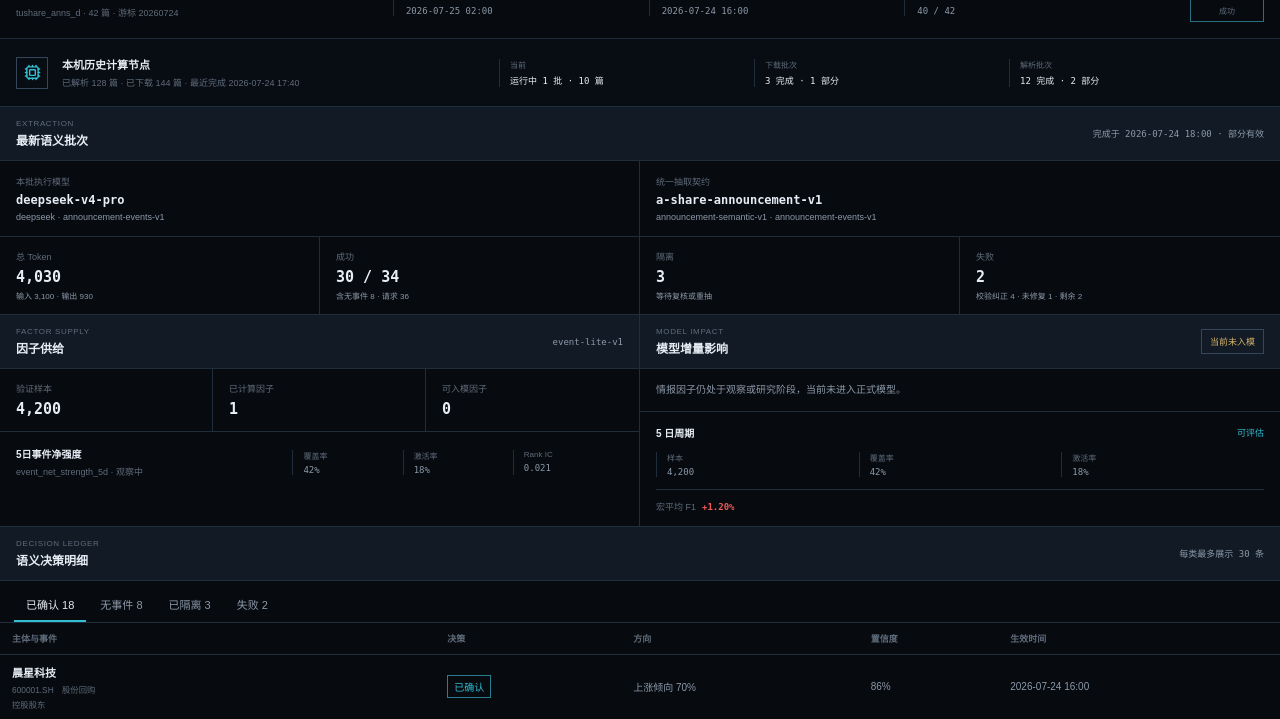
Test: IntelligencePanel › filters canonical, no-event, quarantined, and failed decisions
(page scrolled)
Expected: the text "晨星科技" is shown, [12,667,56,679]
Step 1. Click the button "无事件 8" → [121, 605], box [88,588,154,622]
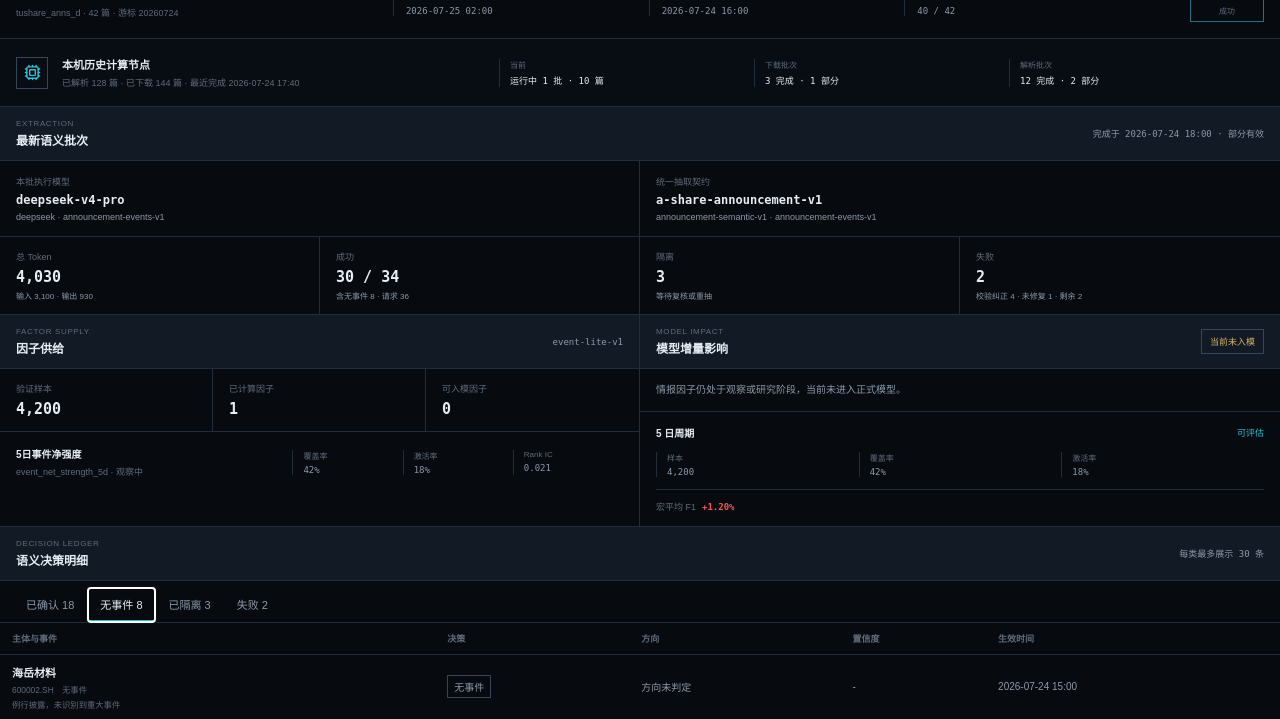
Now the text "海岳材料" is shown, box [12,667,56,679]
Now the text "例行披露，未识别到重大事件" is shown, box [12,700,120,710]
Step 2. Click the button "已隔离 3" → [190, 605], box [156,588,223,622]
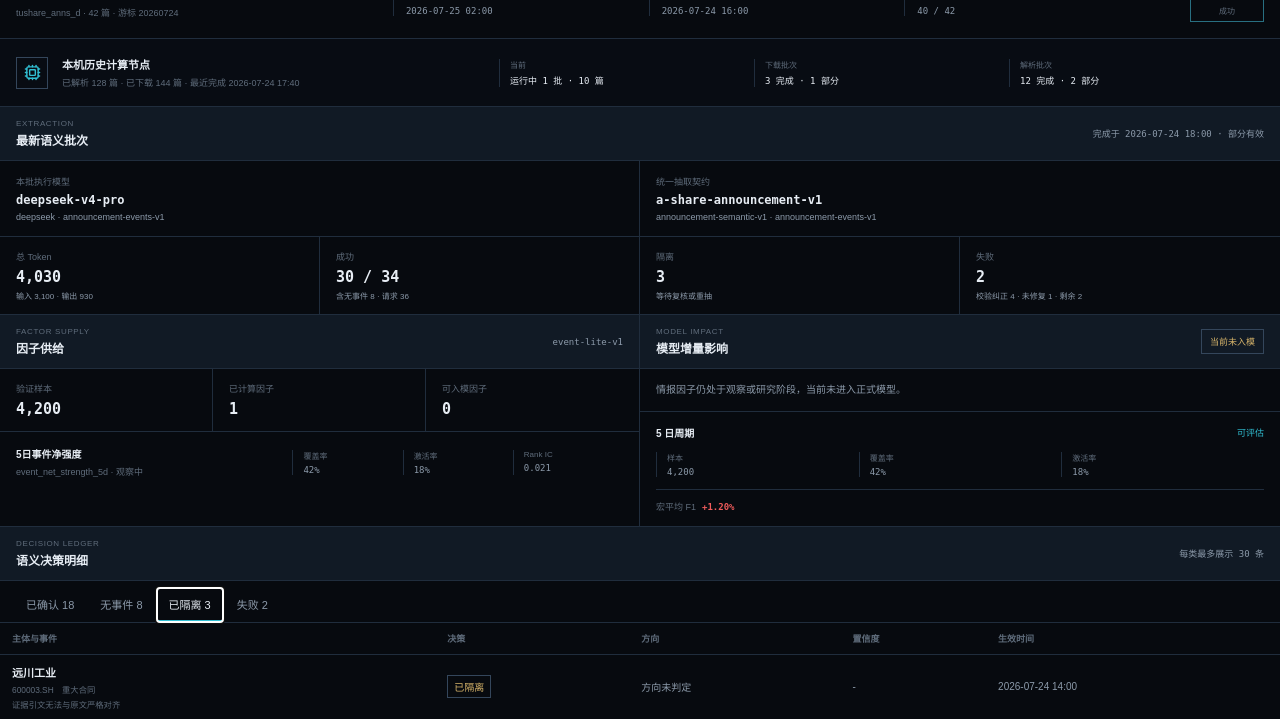
Now the text "远川工业" is shown, box [12,667,56,679]
Now the text "证据引文无法与原文严格对齐" is shown, box [12,700,120,710]
Step 3. Click the button "失败 2" → [252, 605], box [225,588,280,622]
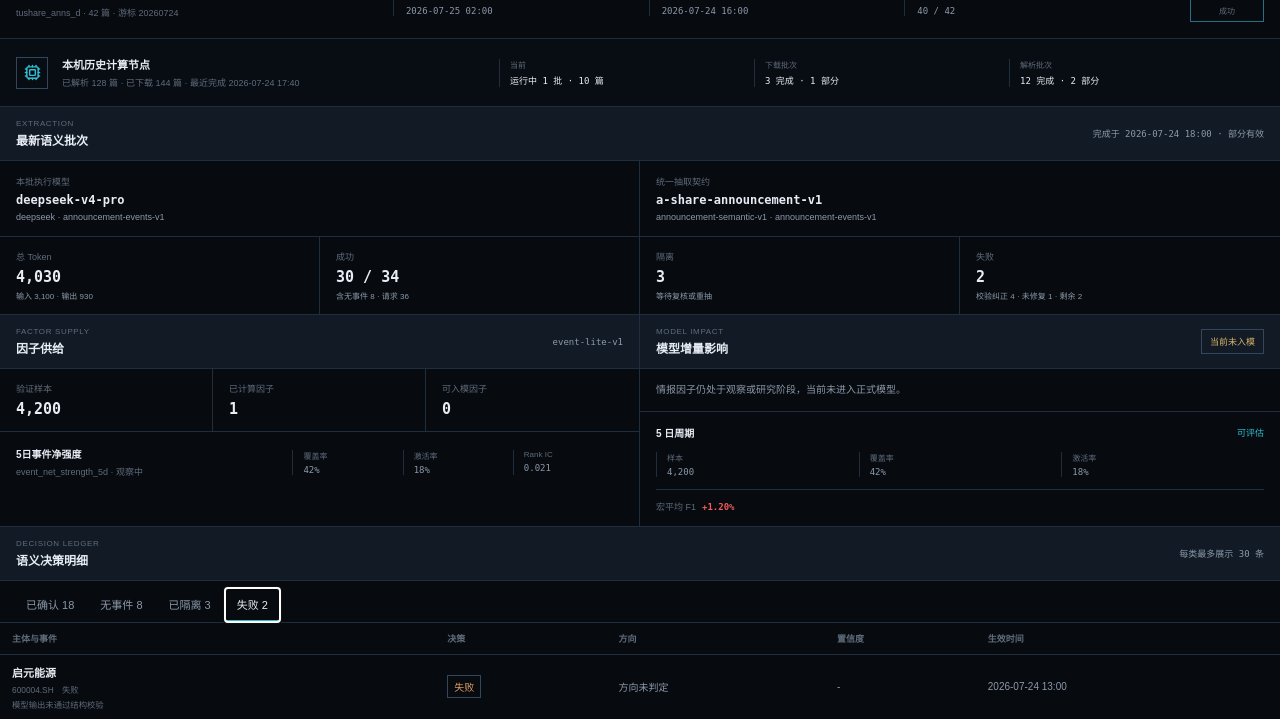
Now the text "启元能源" is shown, box [12,667,56,679]
Now the text "模型输出未通过结构校验" is shown, box [12,700,104,710]
Step 4. Click the button "已确认 18" → [50, 605], box [14,588,86,622]
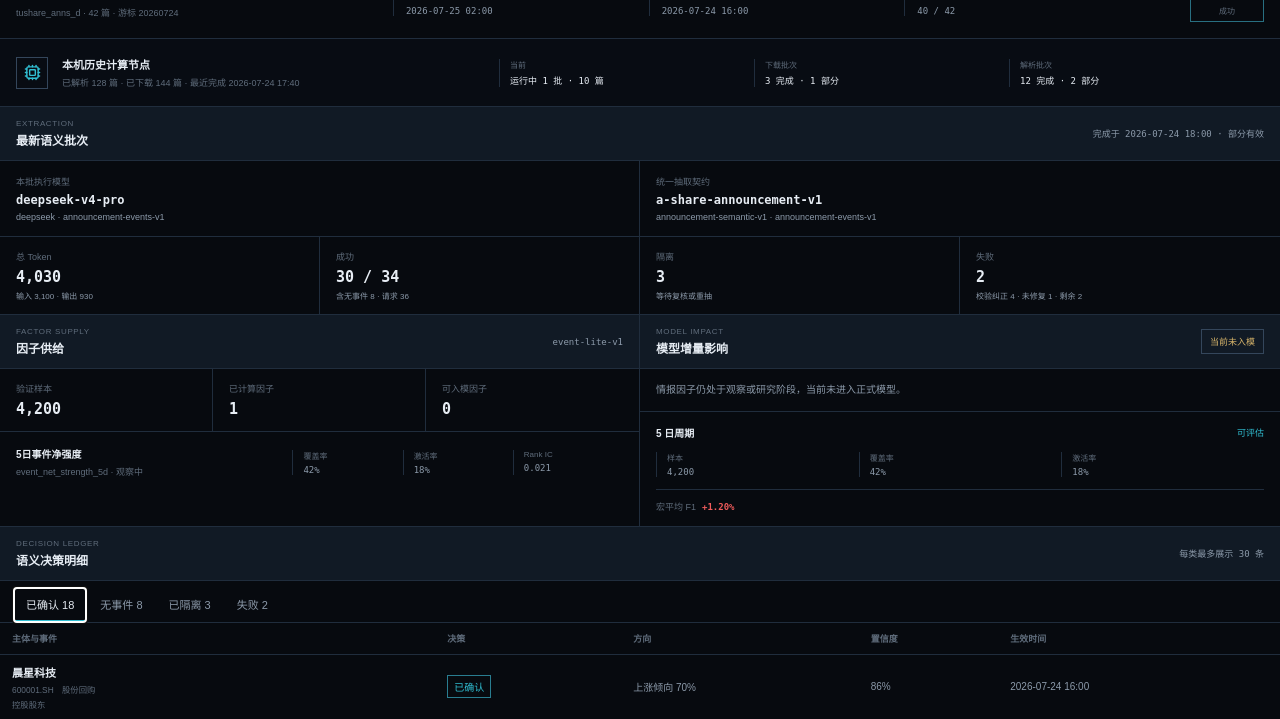
Now the text "晨星科技" is shown, box [12,667,56,679]
